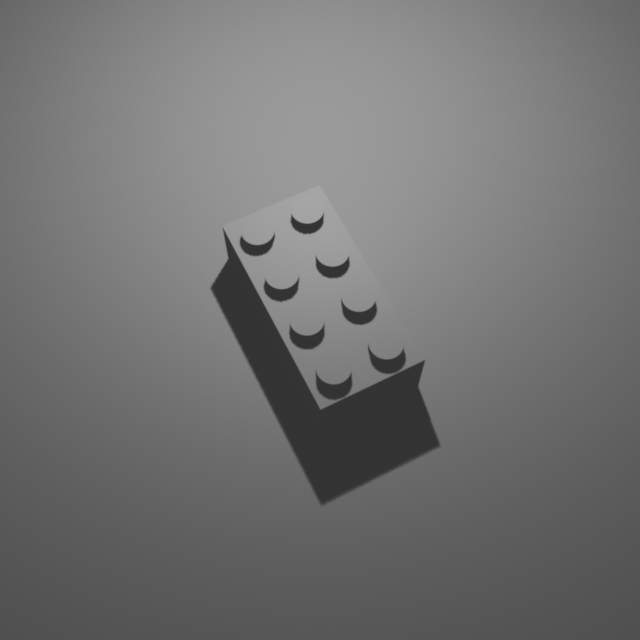lego_2x4: (221, 179, 427, 433)
